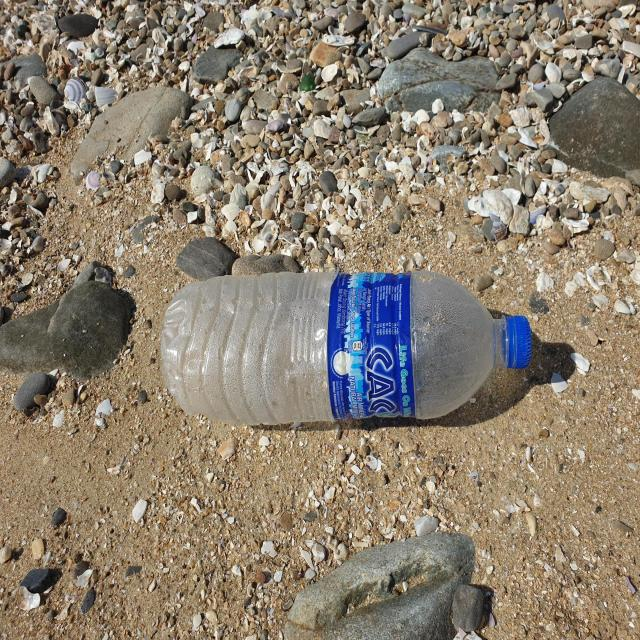plastic: (161, 272, 532, 425)
